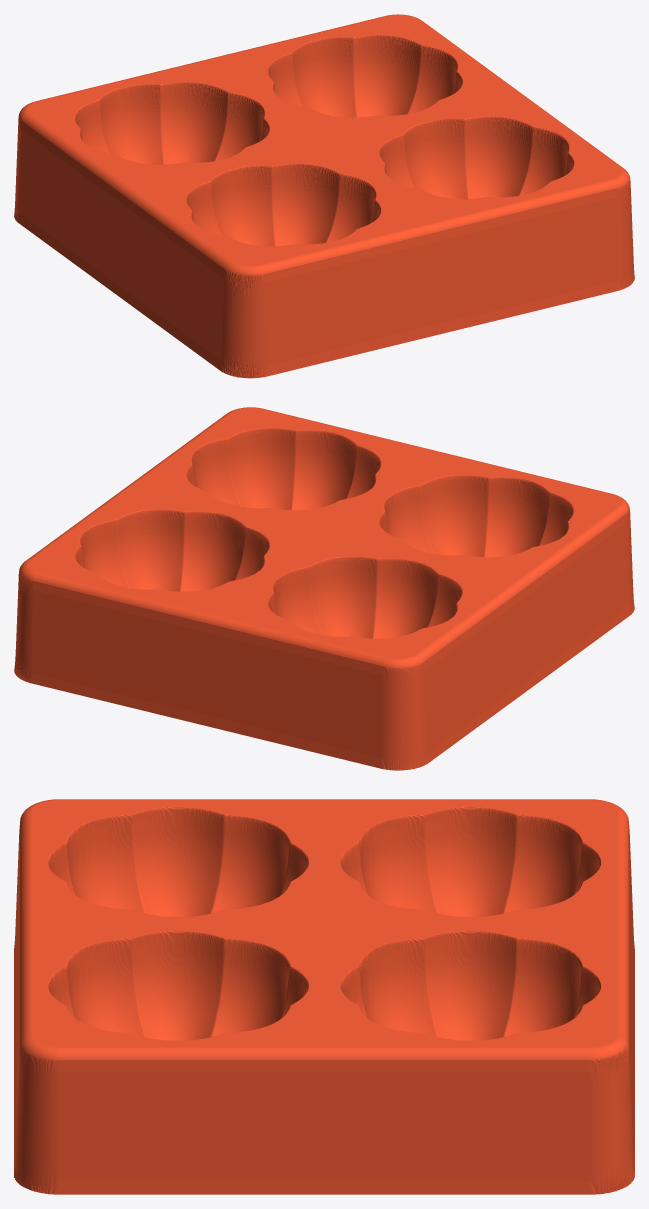
The model's file is mold.glb.
3 renders of one model, top to bottom at view 1: azimuth 30°, elevation 25°; view 2: azimuth 150°, elevation 25°; view 3: azimuth 270°, elevation 25°, orthographic. The views are drawn at different scales.
Visible parts, largest first — view 1: geometry_0; view 2: geometry_0; view 3: geometry_0.
Boxes of the visible parts, x1,y1,x2,y2 form: geometry_0: (14,14,634,378); geometry_0: (14,407,634,770); geometry_0: (14,799,634,1194).
Bounding box in the file's own units: 0.1225 × 0.0304 × 0.1225.
